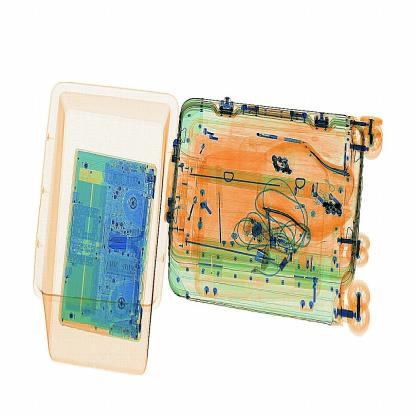wrench: (211, 163, 225, 248)
